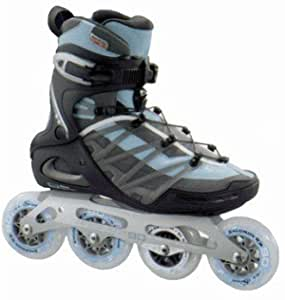roller_blade: (19, 14, 273, 288)
